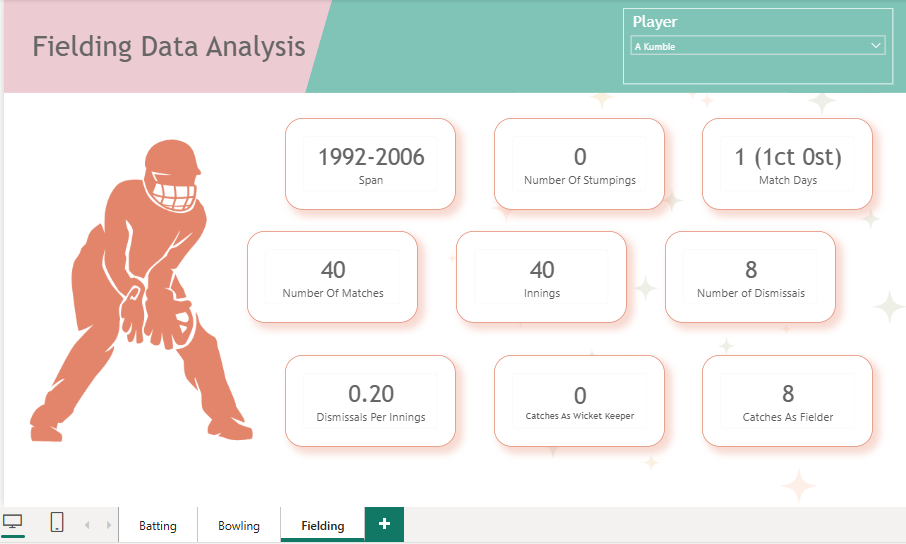

The dashboard page shown, as its layout file describes it:
{"tool":"powerbi","page":{"name":"Fielding","canvas":[1280,720],"ordinal":2},"visuals":[{"type":"shape","box":[0,0,727.1,133.2],"z":0},{"type":"shape","box":[426.6,0,853.2,133.2],"z":1000},{"type":"shape","box":[1111.2,0,168.7,133.2],"z":2000},{"type":"slicer","fields":{"Values":["fieding.Player"]},"box":[877.3,12.8,382.7,107.7],"z":3000},{"type":"cardVisual","fields":{"Data":["Min(fieding.Span)"]},"box":[398.3,168.7,242.4,130.4],"z":4000},{"type":"cardVisual","fields":{"Data":["Sum(fieding.St)"]},"box":[693.8,168.7,242.4,130.4],"z":5000},{"type":"cardVisual","fields":{"Data":["Min(fieding.MD)"]},"box":[989.3,168.7,242.4,130.4],"z":6000},{"type":"cardVisual","fields":{"Data":["Sum(fieding.Mat)"]},"box":[344.4,328.8,242.4,130.4],"z":7000},{"type":"cardVisual","fields":{"Data":["Sum(fieding.Inns)"]},"box":[640.6,328.8,242.4,130.4],"z":8000},{"type":"cardVisual","fields":{"Data":["Sum(fieding.DisDescending)"]},"box":[936.9,328.8,242.4,130.4],"z":9000},{"type":"cardVisual","fields":{"Data":["Sum(fieding.D/I)"]},"box":[398.3,504.6,242.4,130.4],"z":10000},{"type":"cardVisual","fields":{"Data":["Sum(fieding.Ct Wk)"]},"box":[694.5,504.6,242.4,130.4],"z":11000},{"type":"cardVisual","fields":{"Data":["Sum(fieding.Ct Fi)"]},"box":[989.3,504.6,242.4,130.4],"z":12000}]}

Visuals, with their boxes on the page's 1280x720 design canvas (x1, y1, x2, y2). These are canvas units, not pixel positions in the 906x544 screenshot, which may show the page scaled, cropped or inside an application window:
shape: bbox=(0, 0, 727, 133)
shape: bbox=(427, 0, 1280, 133)
shape: bbox=(1111, 0, 1280, 133)
slicer - fieding.Player: bbox=(877, 13, 1260, 120)
cardVisual - Min(fieding.Span): bbox=(398, 169, 641, 299)
cardVisual - Sum(fieding.St): bbox=(694, 169, 936, 299)
cardVisual - Min(fieding.MD): bbox=(989, 169, 1232, 299)
cardVisual - Sum(fieding.Mat): bbox=(344, 329, 587, 459)
cardVisual - Sum(fieding.Inns): bbox=(641, 329, 883, 459)
cardVisual - Sum(fieding.DisDescending): bbox=(937, 329, 1179, 459)
cardVisual - Sum(fieding.D/I): bbox=(398, 505, 641, 635)
cardVisual - Sum(fieding.Ct Wk): bbox=(694, 505, 937, 635)
cardVisual - Sum(fieding.Ct Fi): bbox=(989, 505, 1232, 635)
